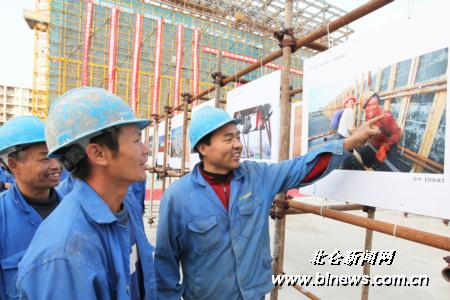helmet: (48, 88, 154, 160), (190, 108, 243, 153), (1, 116, 48, 154), (360, 91, 378, 109), (344, 95, 357, 107)
